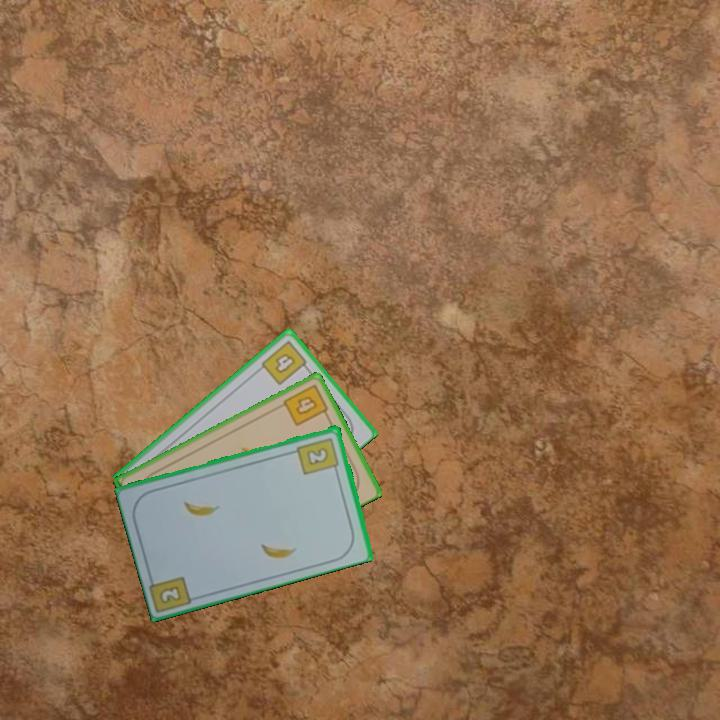2b: (294, 434, 342, 477), (156, 582, 184, 607)
4b: (258, 337, 312, 388), (280, 380, 332, 429)
